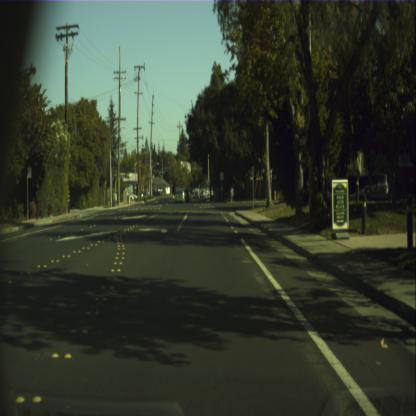Yellow: (170, 177, 172, 184)
